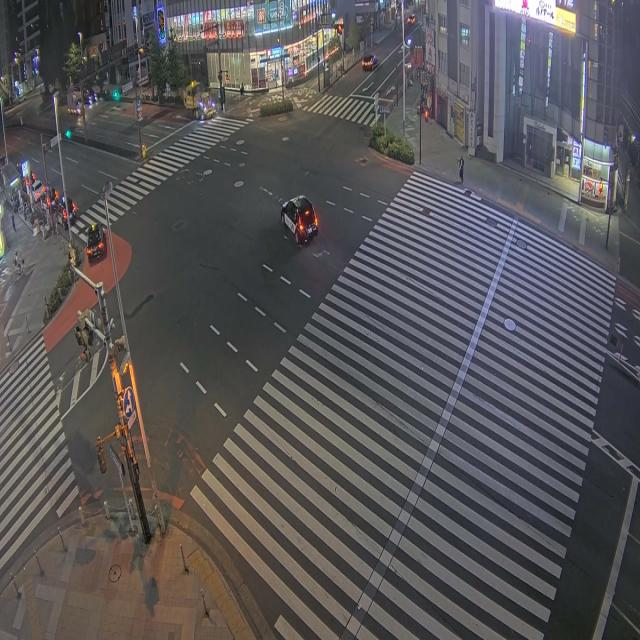car: (281, 195, 317, 244), (86, 224, 105, 261), (56, 196, 76, 228), (33, 180, 45, 201), (362, 55, 377, 71), (406, 14, 415, 24)
truck: (183, 81, 215, 119)
